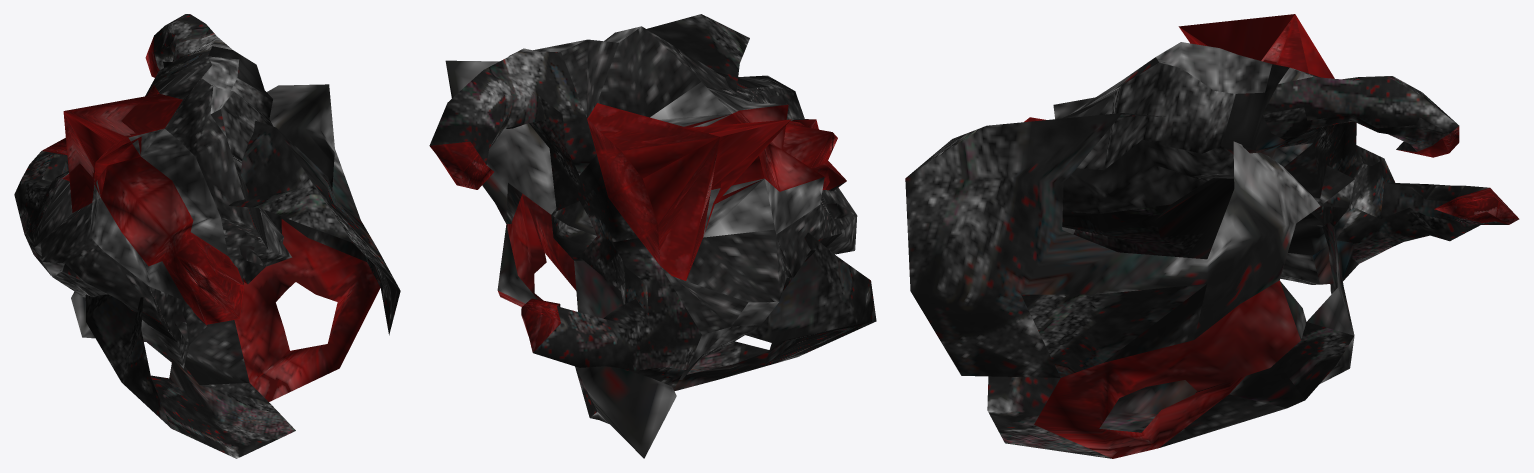
Rendered from ParasiteZed_Armor_Ground.fbx.
3 views of the same model, side by side, from view 1: azimuth 30°, elevation 25°; view 2: azimuth 150°, elevation 25°; view 3: azimuth 270°, elevation 25° (orthographic). The views are drawn at different scales.
Visible parts, largest first — view 1: ParasiteZed_Armor_Ground; view 2: ParasiteZed_Armor_Ground; view 3: ParasiteZed_Armor_Ground.
Boxes of the visible parts, x1=… form: ParasiteZed_Armor_Ground: x1=14, y1=14, x2=400, y2=458; ParasiteZed_Armor_Ground: x1=429, y1=14, x2=876, y2=458; ParasiteZed_Armor_Ground: x1=905, y1=14, x2=1519, y2=458.
Size of the model in its own units: 0.2538 by 0.2685 by 0.3727.
